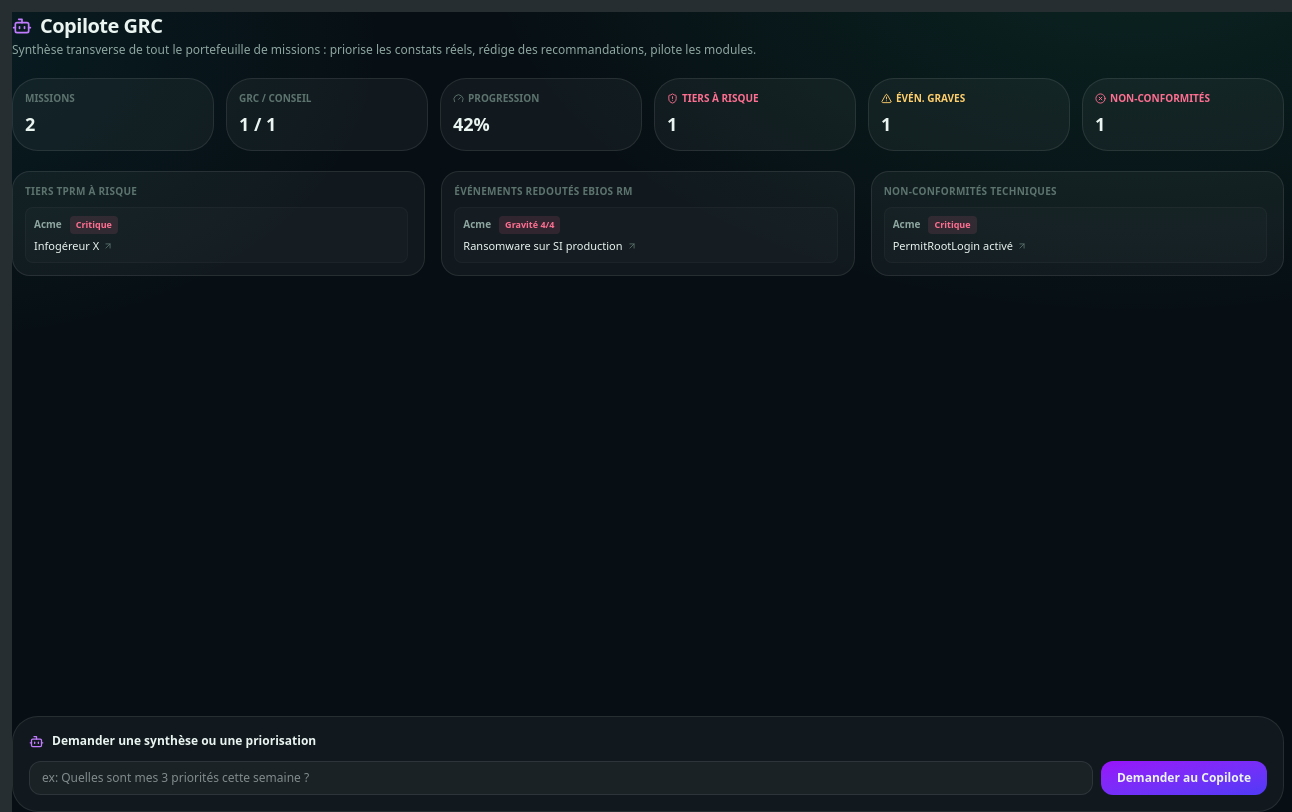
CopilotGRC › interroge le copilote et affiche la réponse avec le badge de source hors-ligne
The image size is (1292, 812).
Check: the text "Infogéreur X" is shown, box [34,238,113,254]
In the field with placeholder "ex: Quelles sont mes 3 priorités cette semaine ?": (561, 778) [29,761,1093,795], type "priorise mes risques"
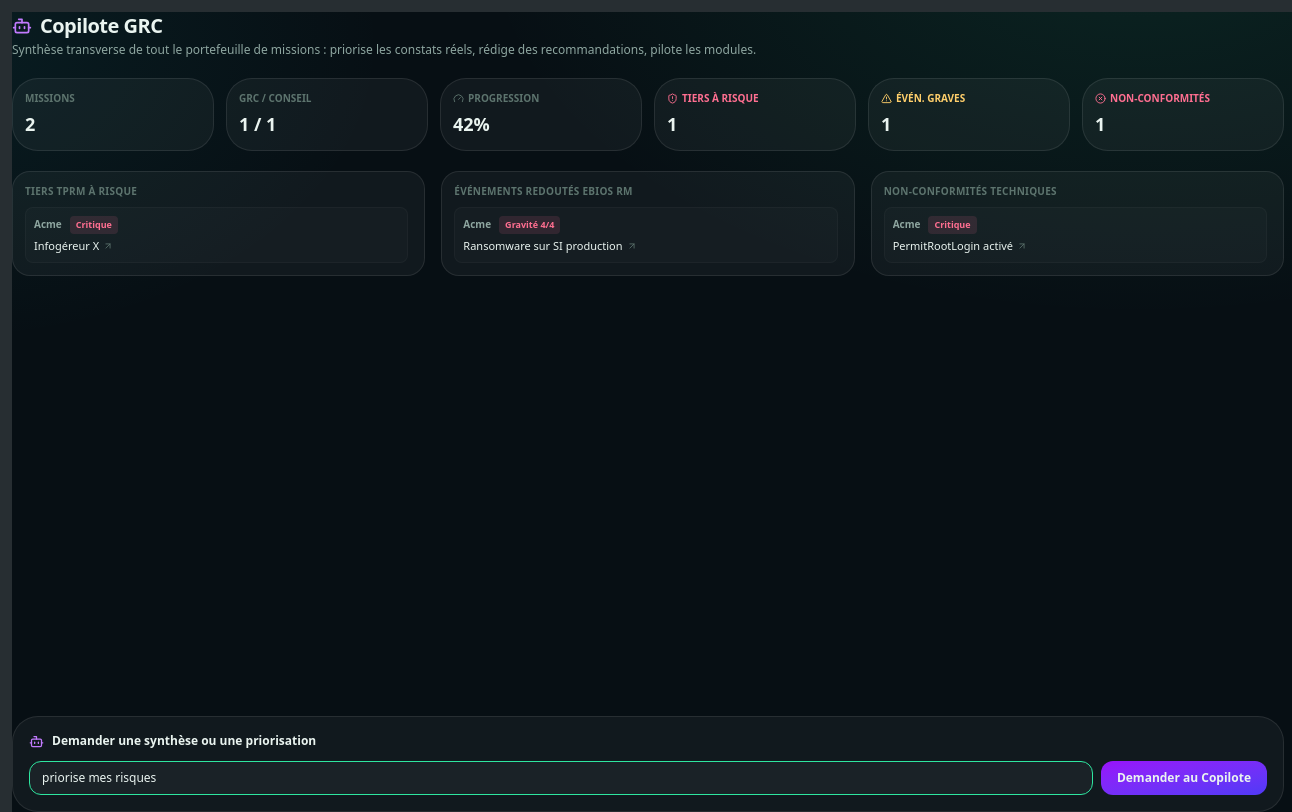
Click the button "Demander au Copilote": (1184, 778) [1101,761,1267,795]
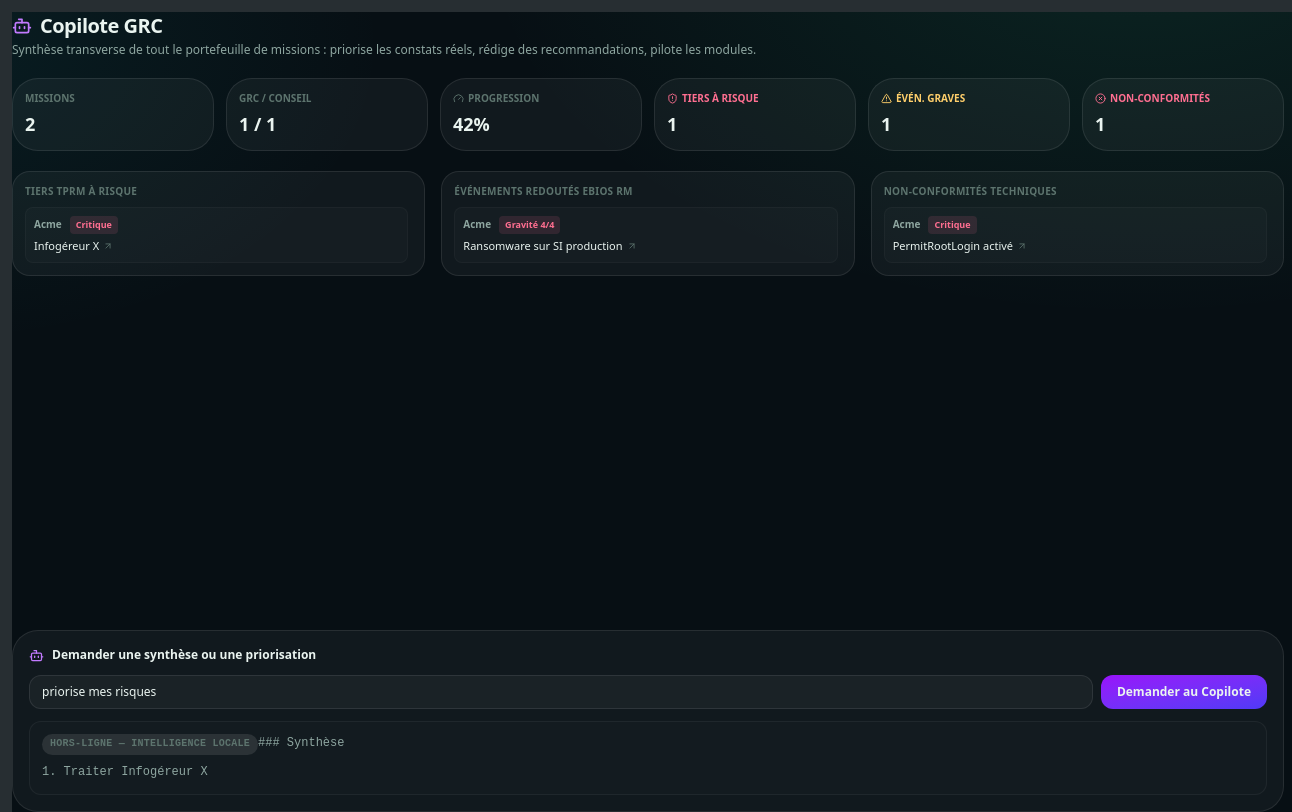
Check: the text "Traiter Infogéreur X" is shown, box [42,736,344,779]
Check: the text "Hors-ligne — intelligence locale" is shown, box [42,734,258,755]
